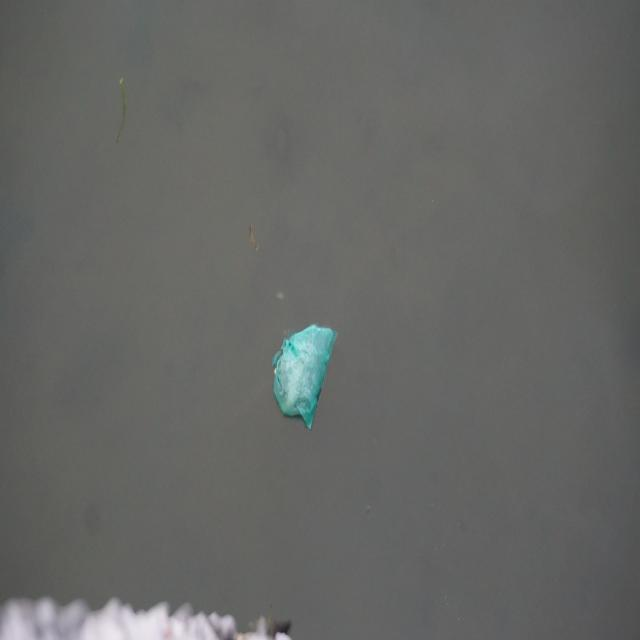Kantong Plastik: (268, 320, 341, 435)
